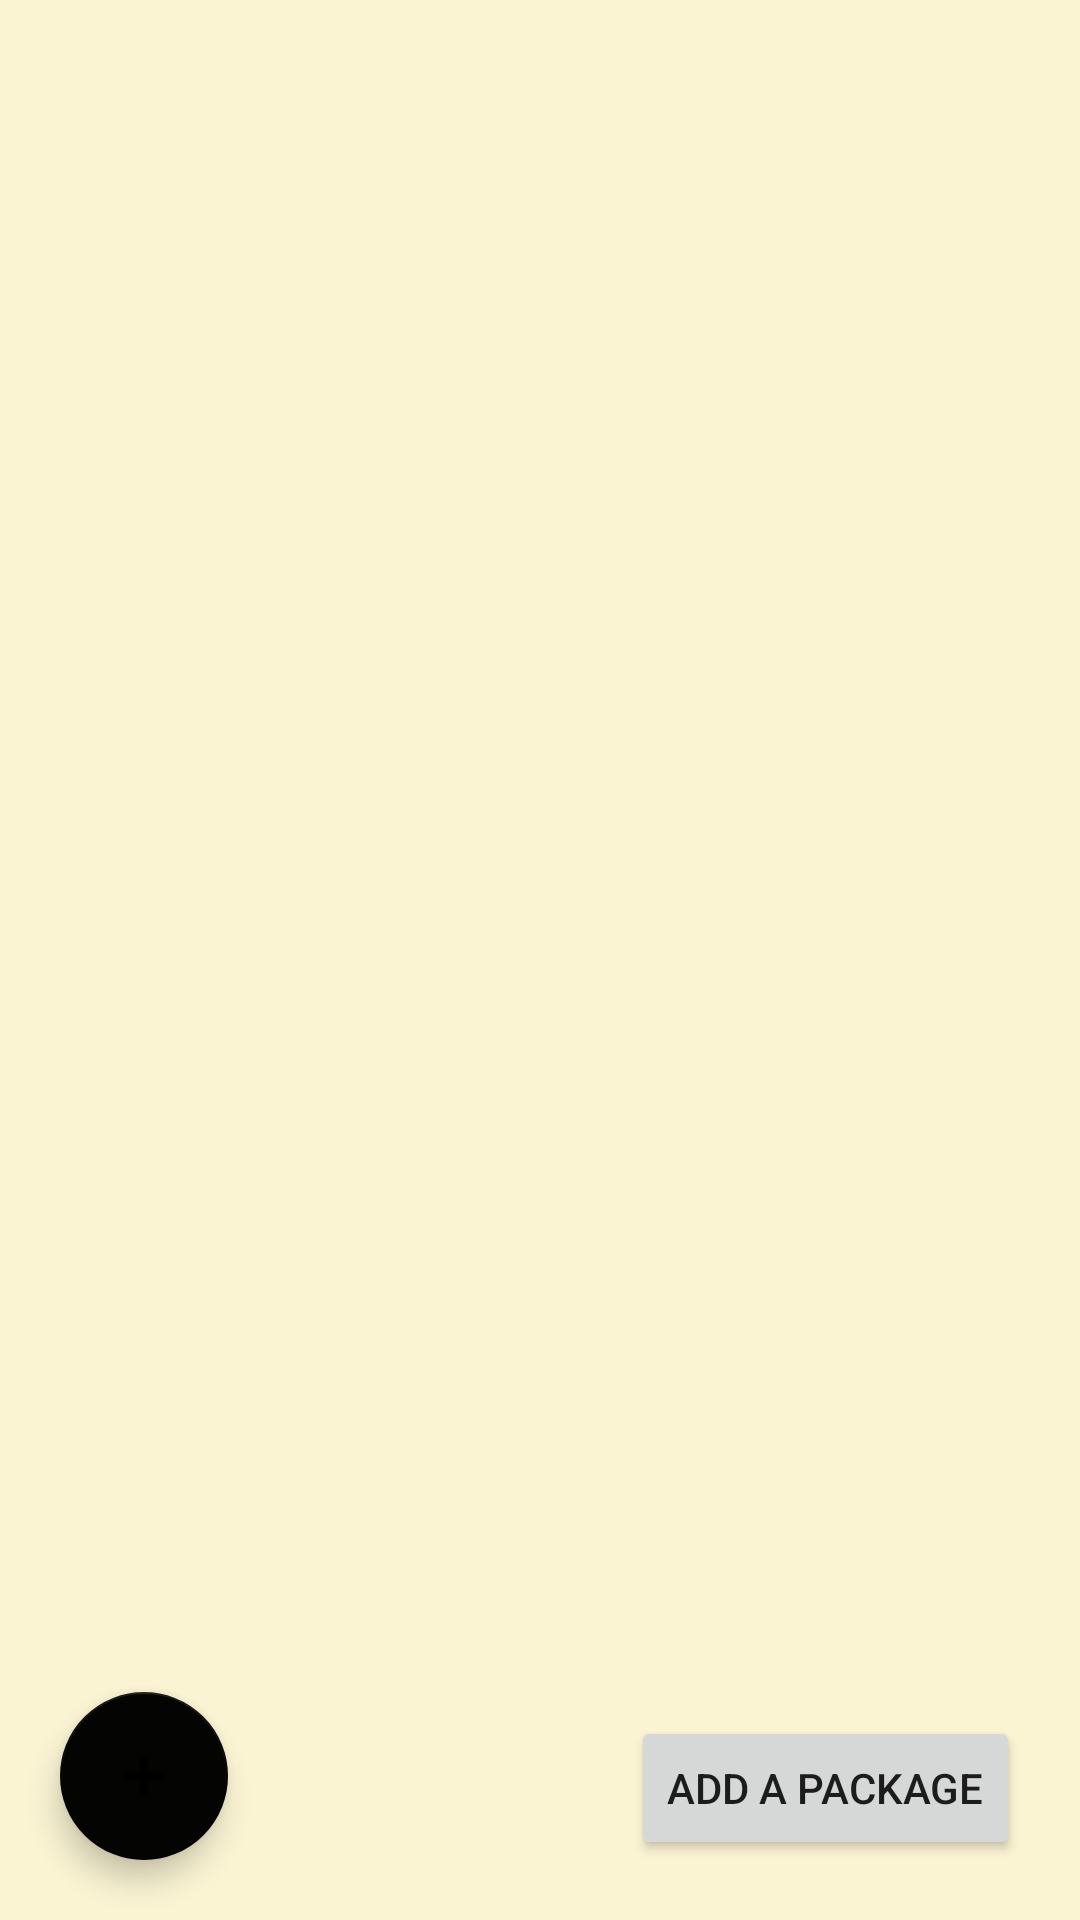

Locate icon controls on the screen. Image size 1080x1920, boxes as box=[x1, y1, x2, y2].
add: box=[60, 1692, 228, 1860]
